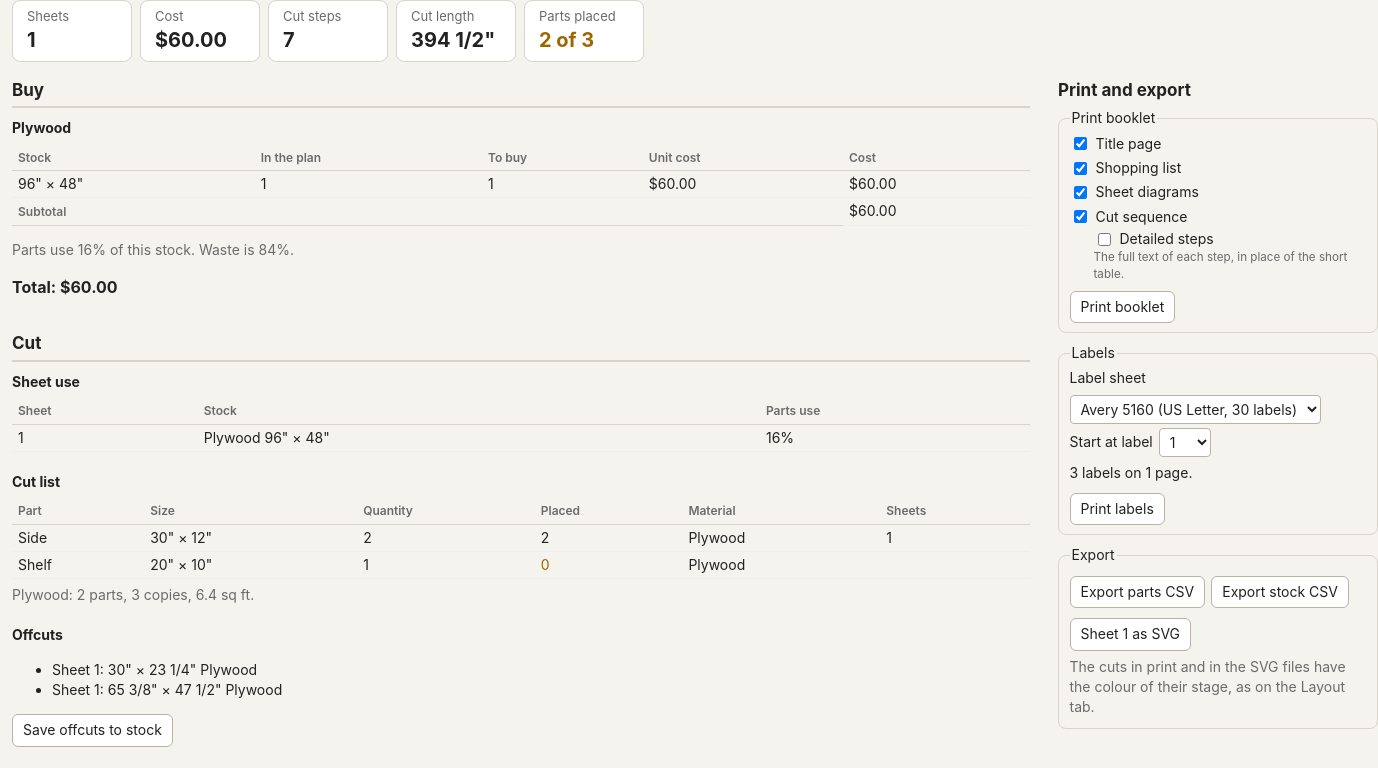
Test: ReportsTab › offers the detailed cut steps while the cut sequence is in the booklet
Click the checkbox labelled "Detailed steps" at (1104, 239), box [1098,232,1110,246]
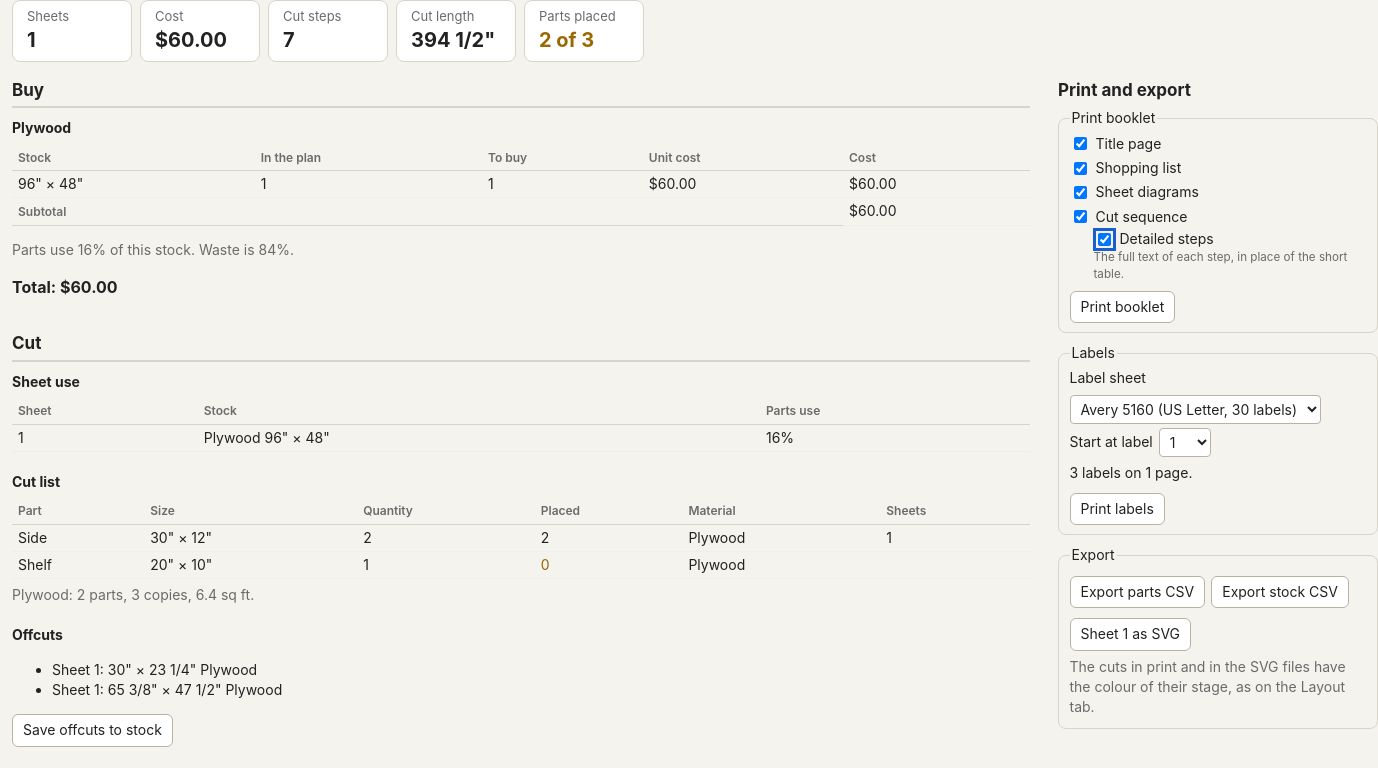
Click the checkbox labelled "Cut sequence" at (1080, 217), box [1074,210,1086,223]
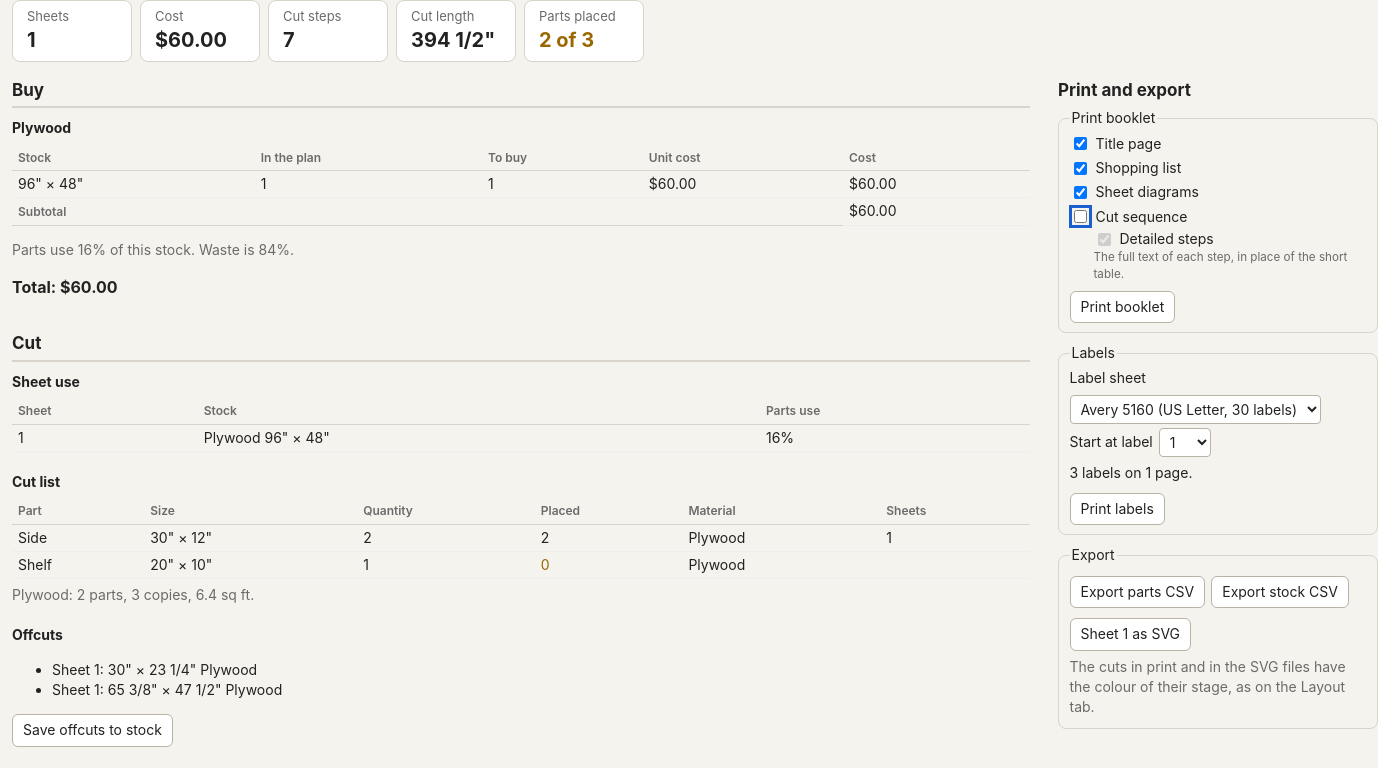
Result: the checkbox labelled "Detailed steps" is disabled at [1098,232,1110,246]
